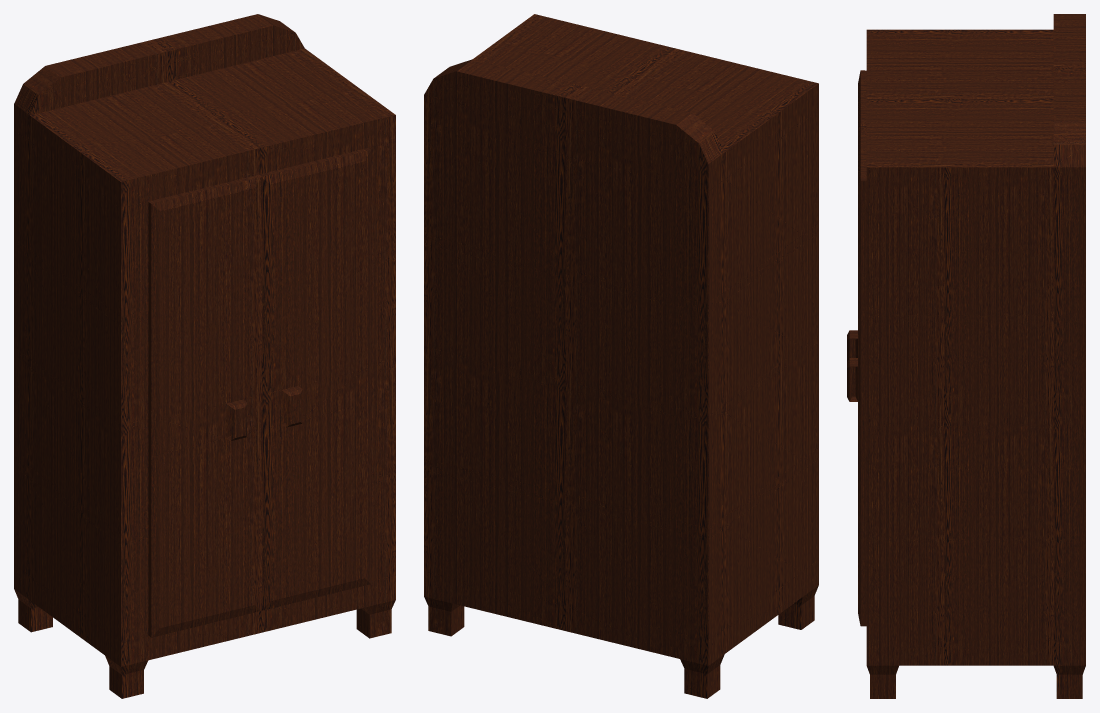
The model's file is Schrank .fbx.
3 renders of one model, left to right at view 1: azimuth 30°, elevation 25°; view 2: azimuth 150°, elevation 25°; view 3: azimuth 270°, elevation 25°, orthographic. The views are drawn at different scales.
Parts seen in each view (by area): view 1: Schrank; view 2: Schrank; view 3: Schrank.
Part boxes in pixels (<box>): Schrank: <box>14,14,395,698</box>; Schrank: <box>424,14,818,698</box>; Schrank: <box>847,14,1085,698</box>.
Bounding box in the file's own units: 196 × 374 × 144.
